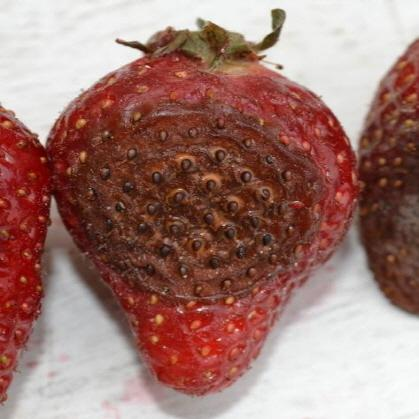Anthracnose Fruit Rot: (66, 97, 330, 304)
